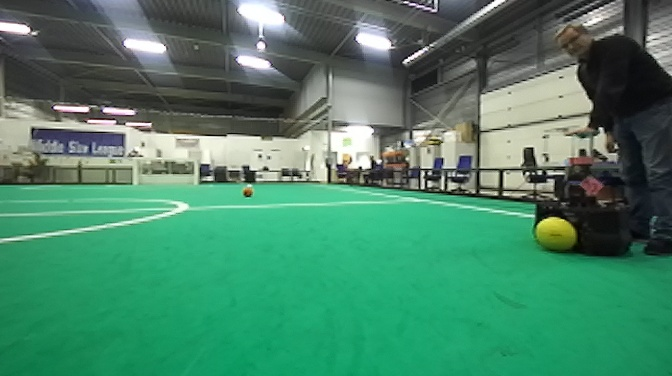ball: (532, 214, 580, 257), (242, 185, 255, 200)
goal: (132, 159, 199, 186)
goalpost: (193, 158, 198, 187), (133, 159, 138, 186)
human: (548, 18, 672, 262)
robot: (533, 126, 636, 258)
